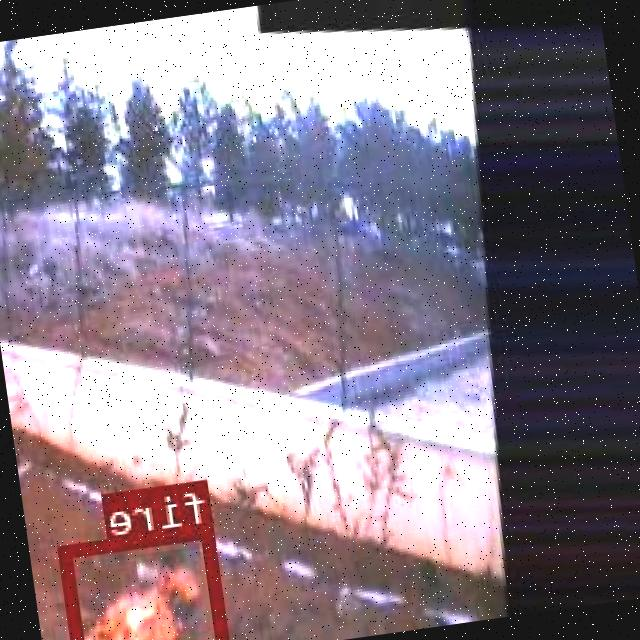fire: (62, 521, 232, 640)
